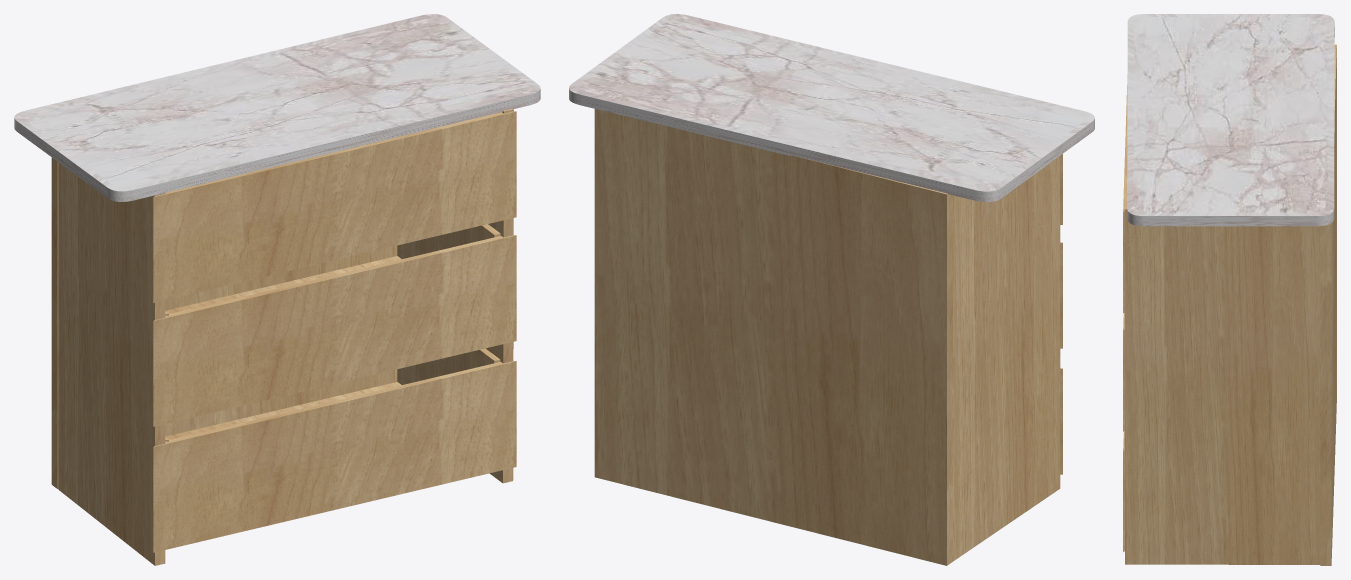
File: cabinet3.FBX
3 views of the same model, side by side, from view 1: azimuth 30°, elevation 25°; view 2: azimuth 150°, elevation 25°; view 3: azimuth 270°, elevation 25° (orthographic). The views are drawn at different scales.
Visible parts, largest first — view 1: Box004, Box008, Box007, Box006, Box002, Box001, Box003; view 2: Box001, Box004, Box002; view 3: Box003, Box004, Box001, Box006.
Boxes of the visible parts, x1,y1,x2,y2 form: Box004: (14, 14, 540, 201); Box008: (153, 348, 516, 552); Box007: (153, 224, 516, 426); Box006: (153, 111, 516, 302); Box002: (58, 162, 165, 565); Box001: (51, 157, 397, 488); Box003: (486, 108, 513, 483); Box001: (594, 109, 952, 565); Box004: (569, 14, 1094, 202); Box002: (953, 156, 1060, 561); Box003: (1124, 204, 1320, 564); Box004: (1127, 14, 1334, 226); Box001: (1320, 44, 1336, 565); Box006: (1123, 85, 1127, 312).
Bounding box in the file's own units: 40.73 × 34.59 × 18.32.
2 materials, 2 textured.
